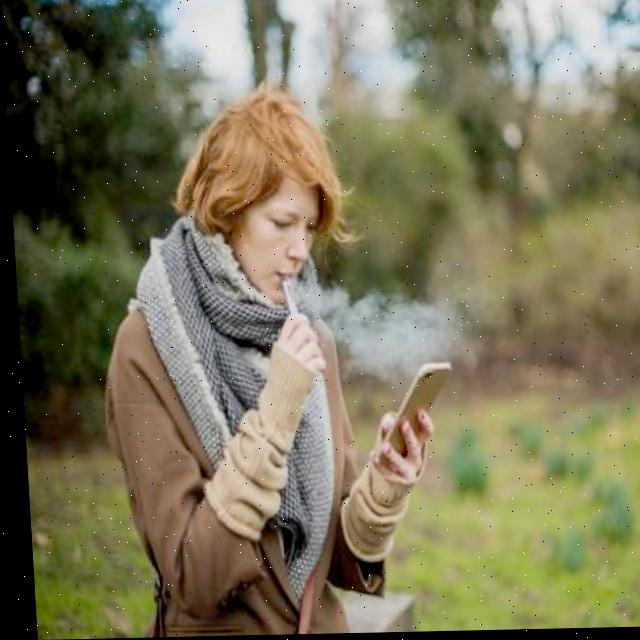vape: (276, 276, 294, 317)
